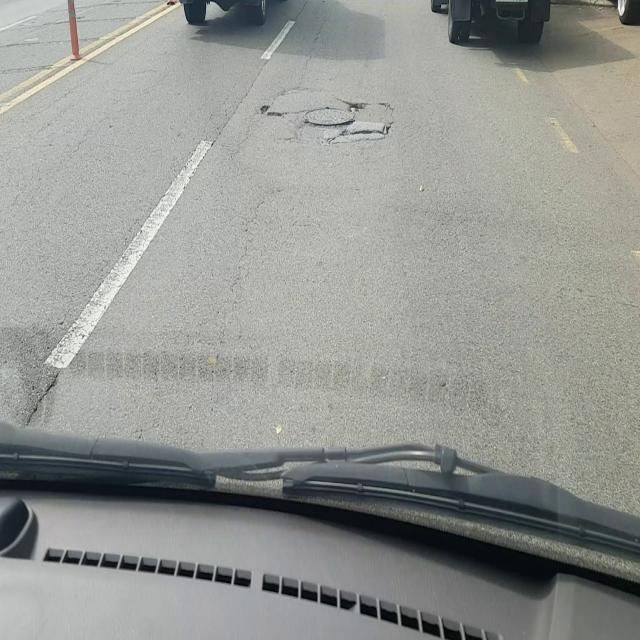Pothole: (302, 97, 368, 128)
